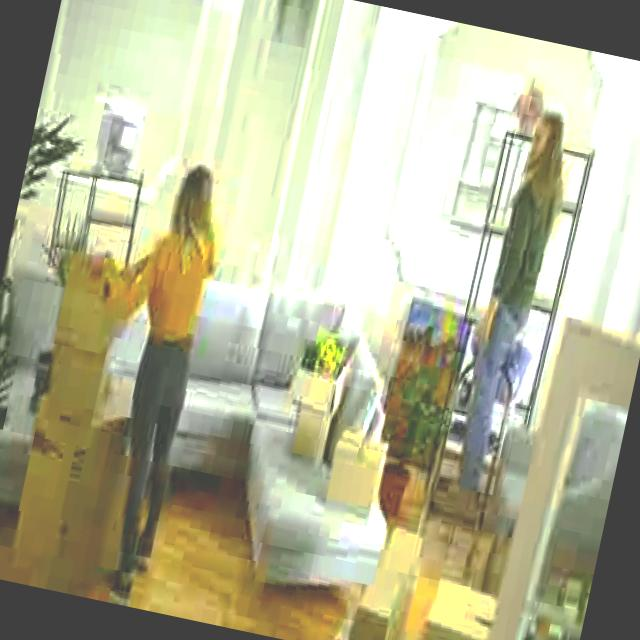Box: (3, 422, 128, 599), (355, 522, 421, 640), (425, 565, 503, 640), (40, 346, 116, 422), (278, 368, 344, 455), (322, 433, 391, 516), (51, 270, 117, 344)
